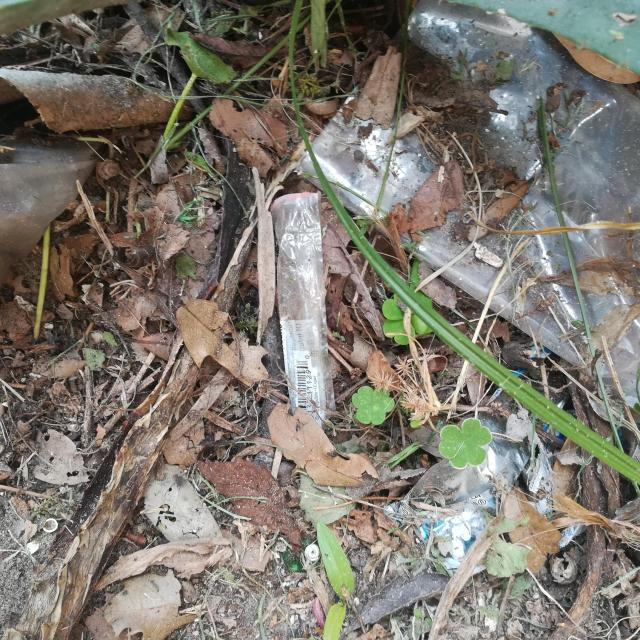litter: (273, 2, 639, 420)
